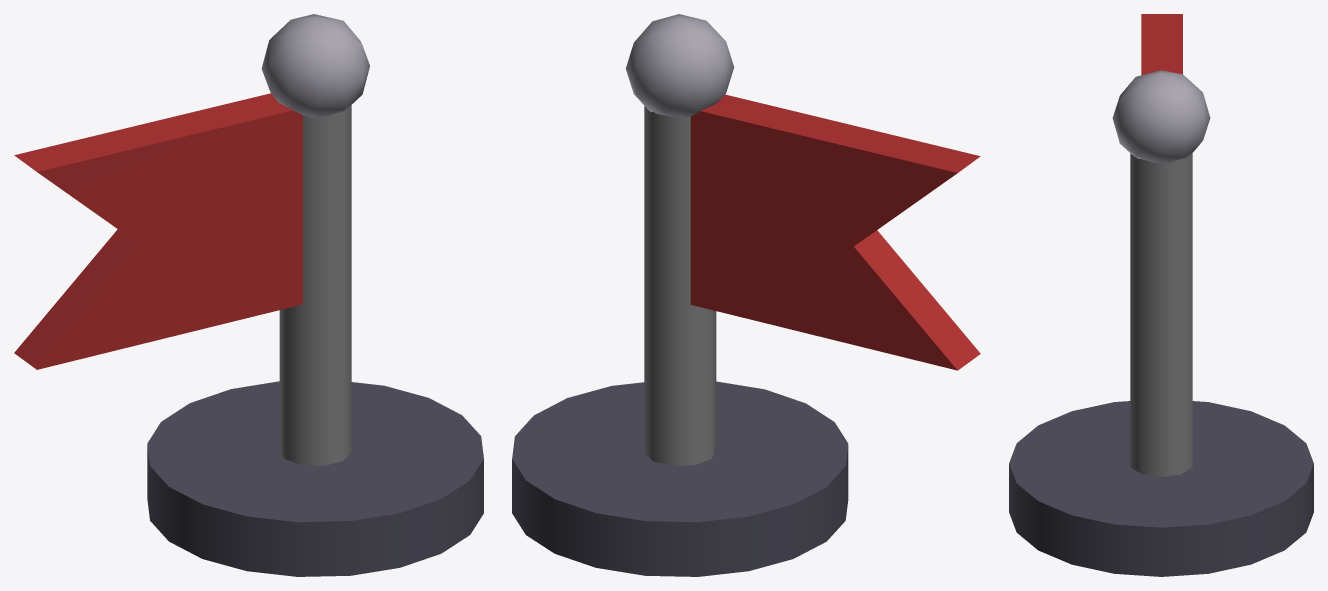
File: flag_01.fbx
3 views of the same model, side by side, from view 1: azimuth 30°, elevation 25°; view 2: azimuth 150°, elevation 25°; view 3: azimuth 270°, elevation 25° (orthographic). The views are drawn at different scales.
Visible parts, largest first — view 1: flag_01; view 2: flag_01; view 3: flag_01.
Part boxes in pixels (box(x1,y1,x2,y2)): flag_01: box(14, 14, 483, 576); flag_01: box(512, 14, 980, 576); flag_01: box(1009, 14, 1313, 576).
Size of the model in its own units: 41.06 by 43.85 by 27.59.
